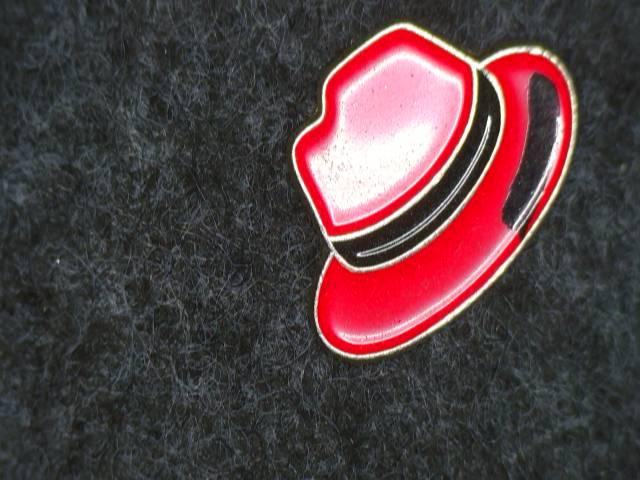Red-Hat: (247, 3, 599, 392)
Scratch: (491, 63, 587, 247)
